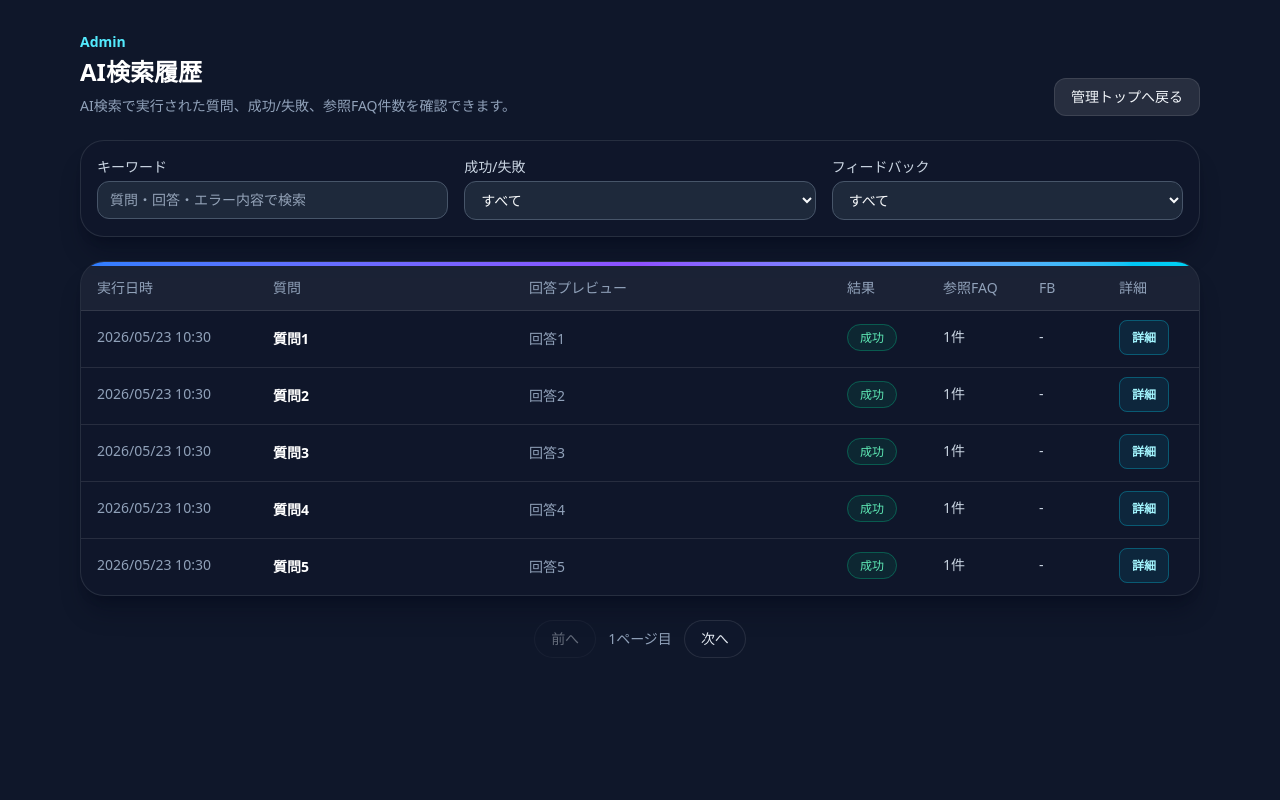
AdminAiHistoriesPage › 5件取得時は次へボタンが有効になり、クリックで2ページ目を取得する
Click the button "次へ".
click(715, 639)  # box [684, 620, 746, 658]
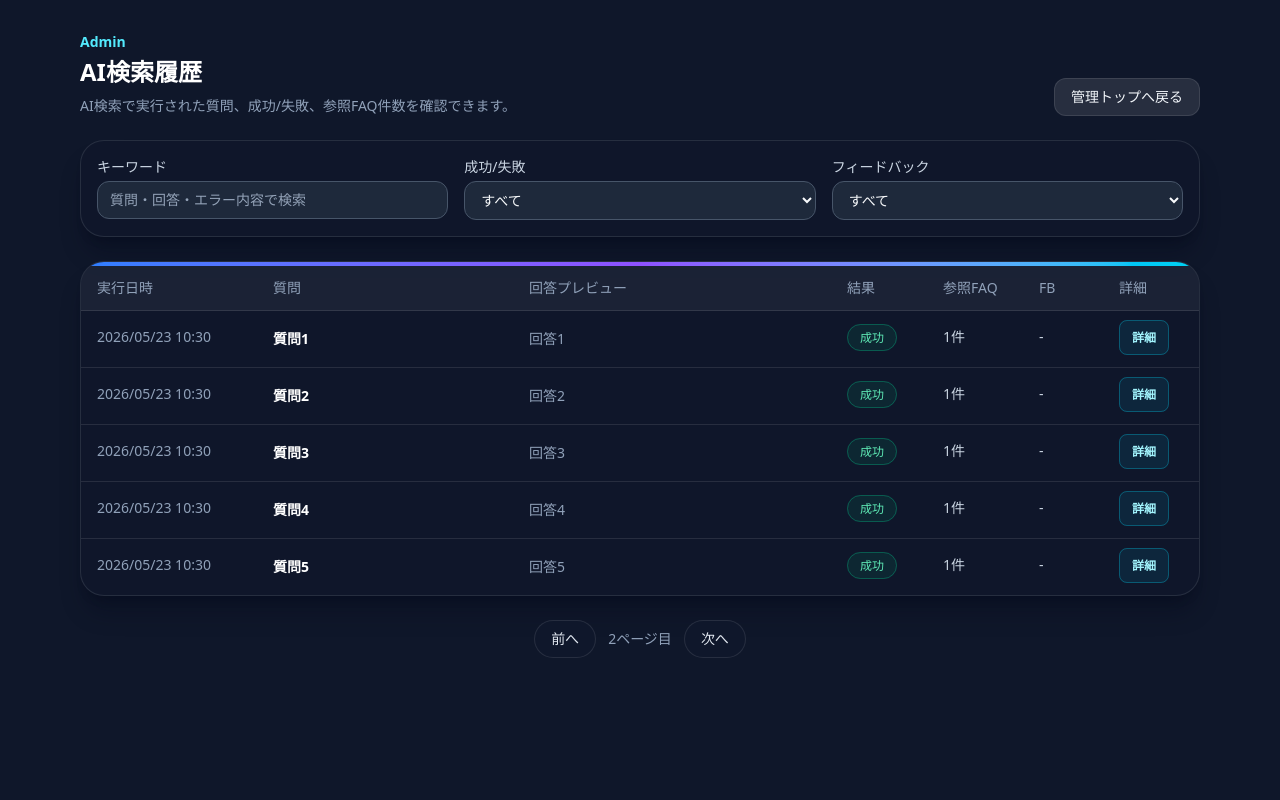
Expected: the text "2ページ目" is shown, [608, 629, 672, 649]
